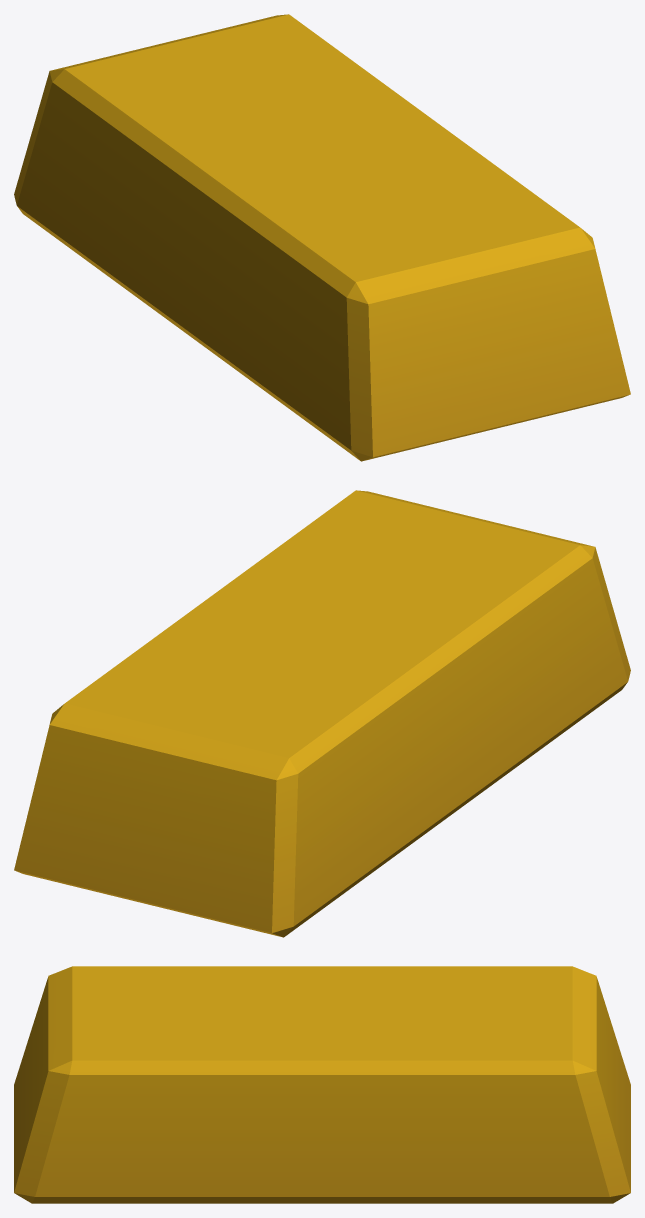
File: GoldBar.fbx
3 renders of one model, top to bottom at view 1: azimuth 30°, elevation 25°; view 2: azimuth 150°, elevation 25°; view 3: azimuth 270°, elevation 25°, orthographic. The views are drawn at different scales.
Visible parts, largest first — view 1: GoldBar; view 2: GoldBar; view 3: GoldBar.
Boxes of the visible parts, left/top/right/bottom form: GoldBar: left=14, top=14, right=630, bottom=461; GoldBar: left=14, top=490, right=630, bottom=937; GoldBar: left=14, top=966, right=630, bottom=1203.
Size of the model in its own units: 117 by 63.91 by 264.
